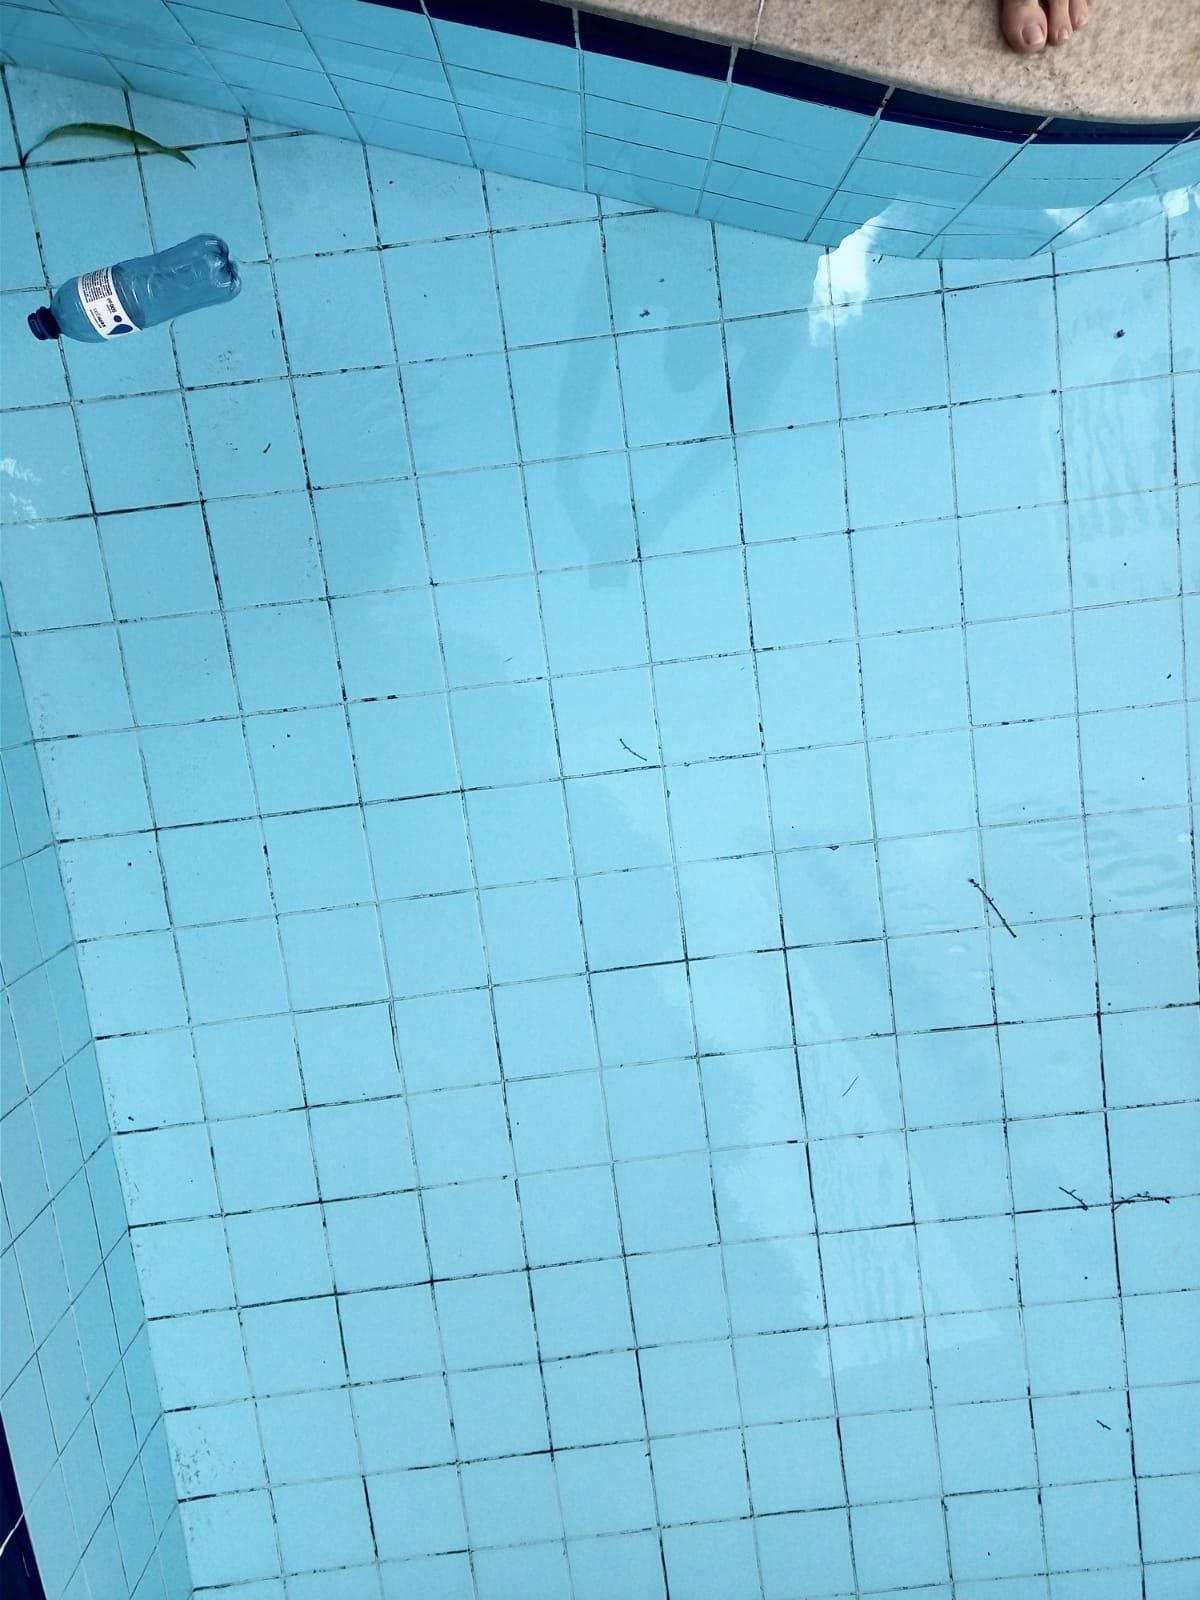Plastic: (10, 215, 319, 409)
